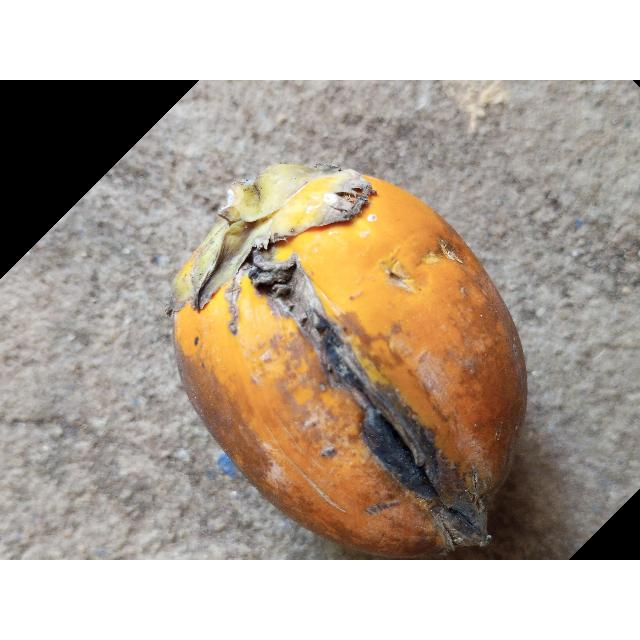damaged: (168, 164, 527, 557)
